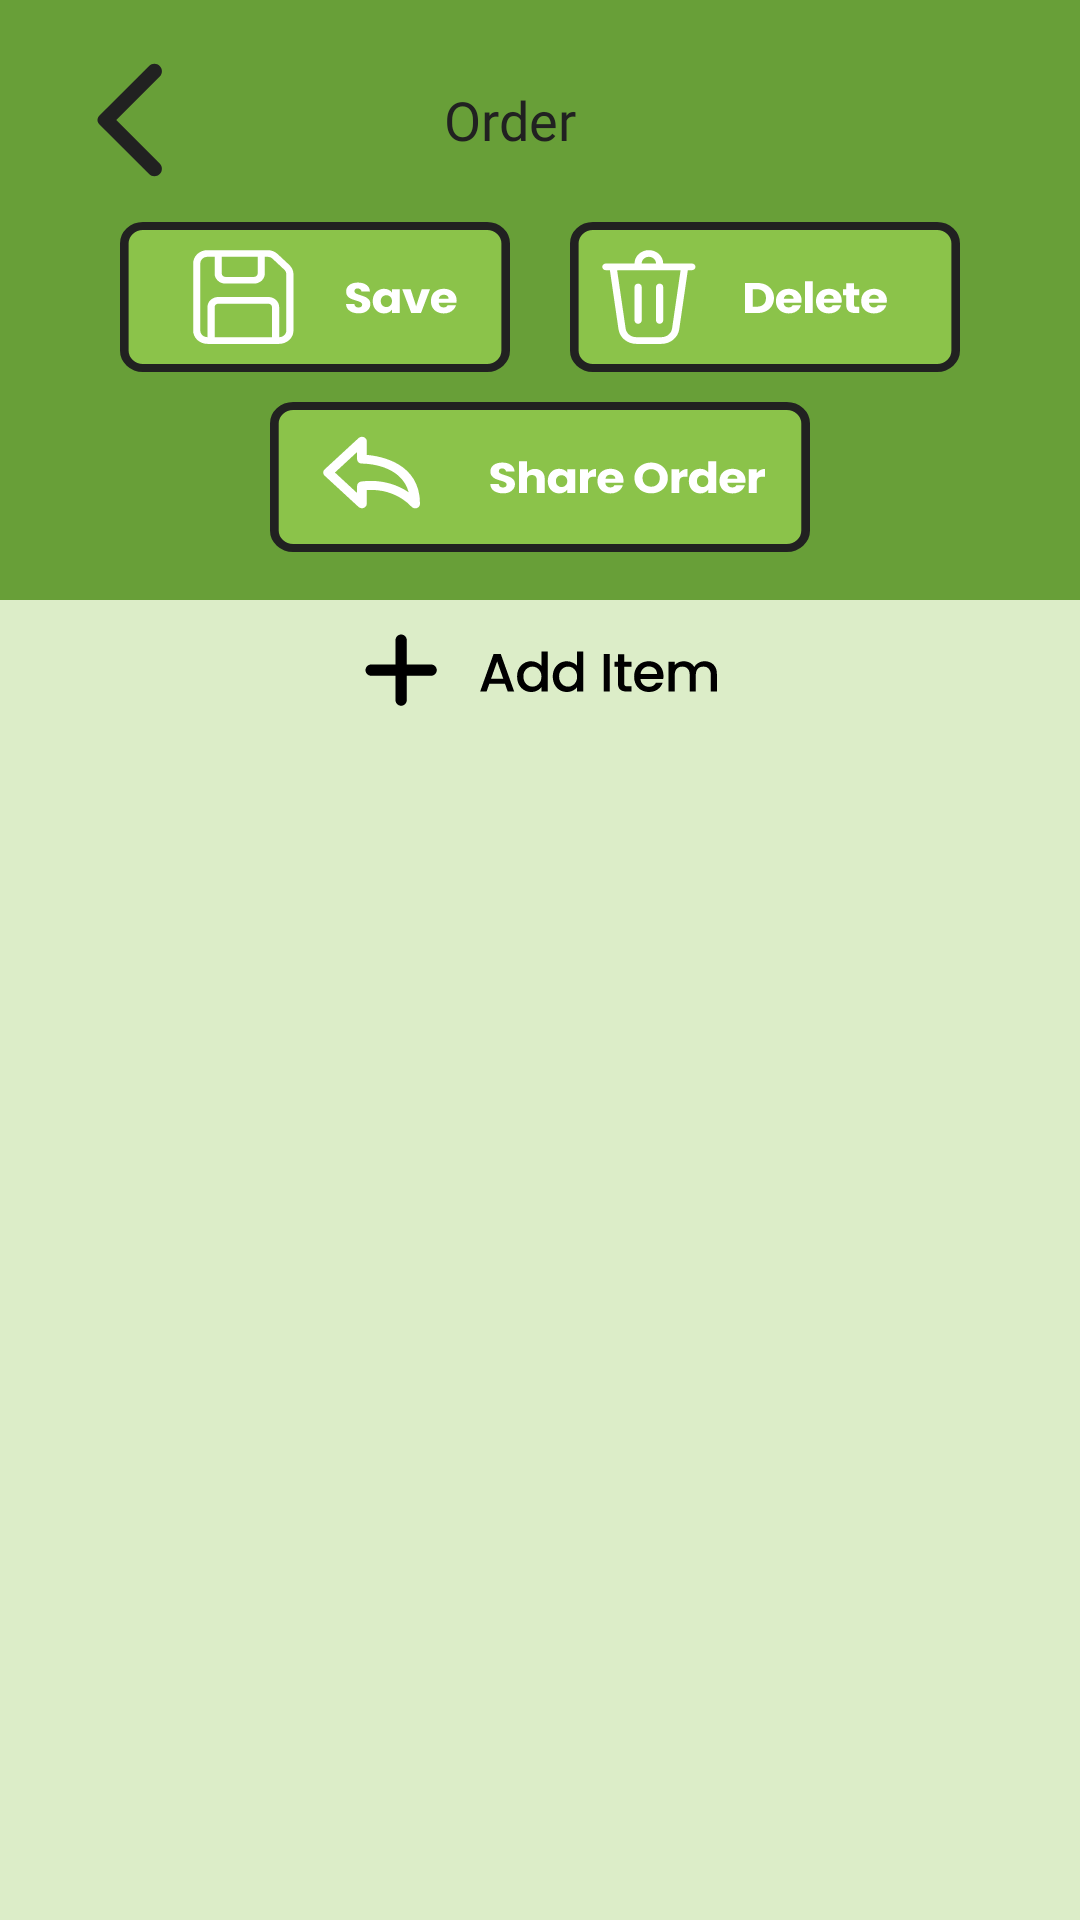

Where icons sit on this 1080w x 1920h app screen, as (left=x1, top=y1, right=x2, bottom=y2):
Back: (left=97, top=63, right=162, bottom=177)
